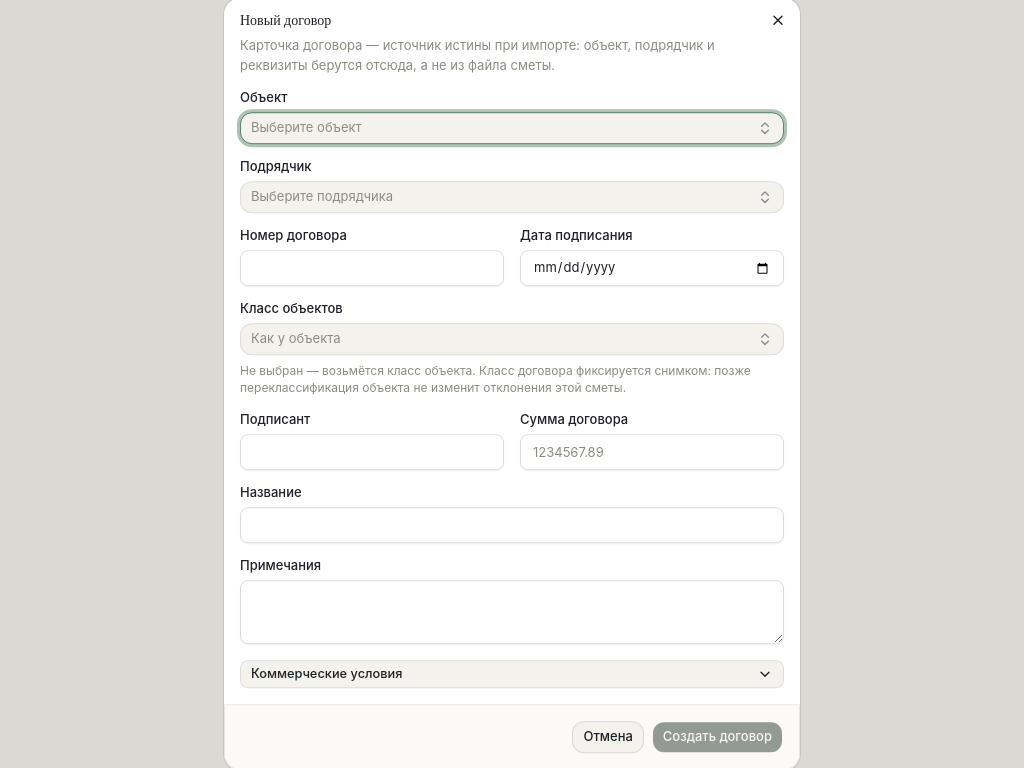
Test: Форма договора: поиск объекта и подрядчика › ищет и по адресу, а не только по названию
Click the dropdown labelled "Выберите объект": (306, 127) [240,112,784,144]
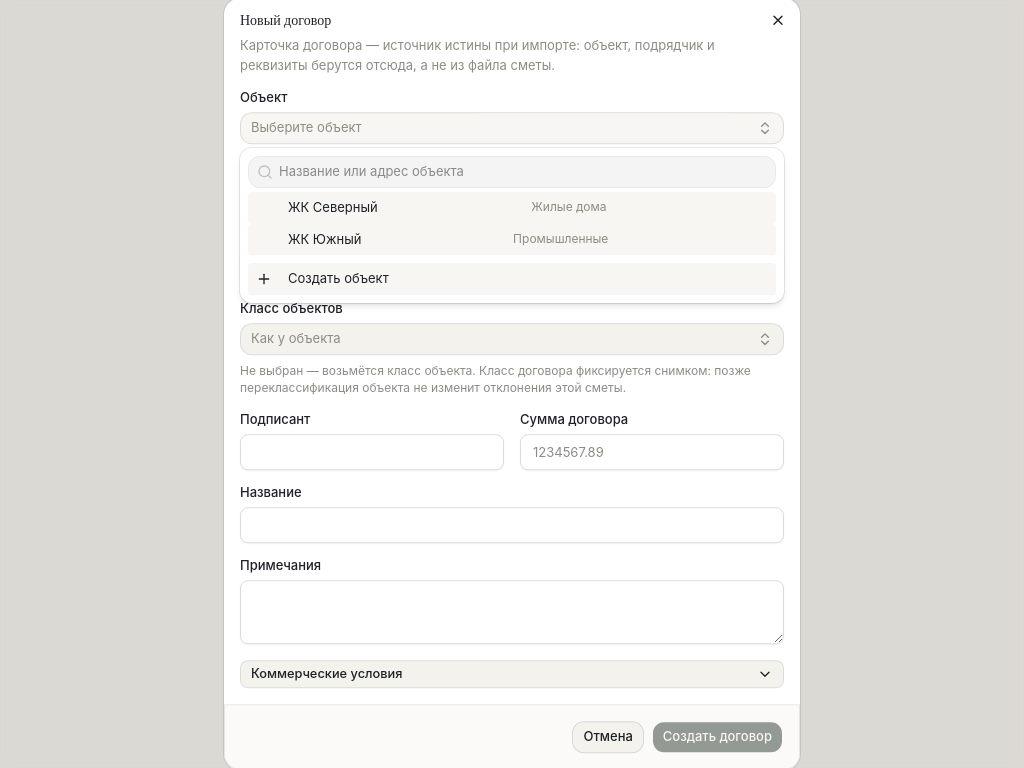
Result: the text "ЖК Северный" is shown at [288,198,378,218]
In the dropdown with placeholder "Название или адрес объекта": (524, 172) [273,162,775,182], type "Солнечная"
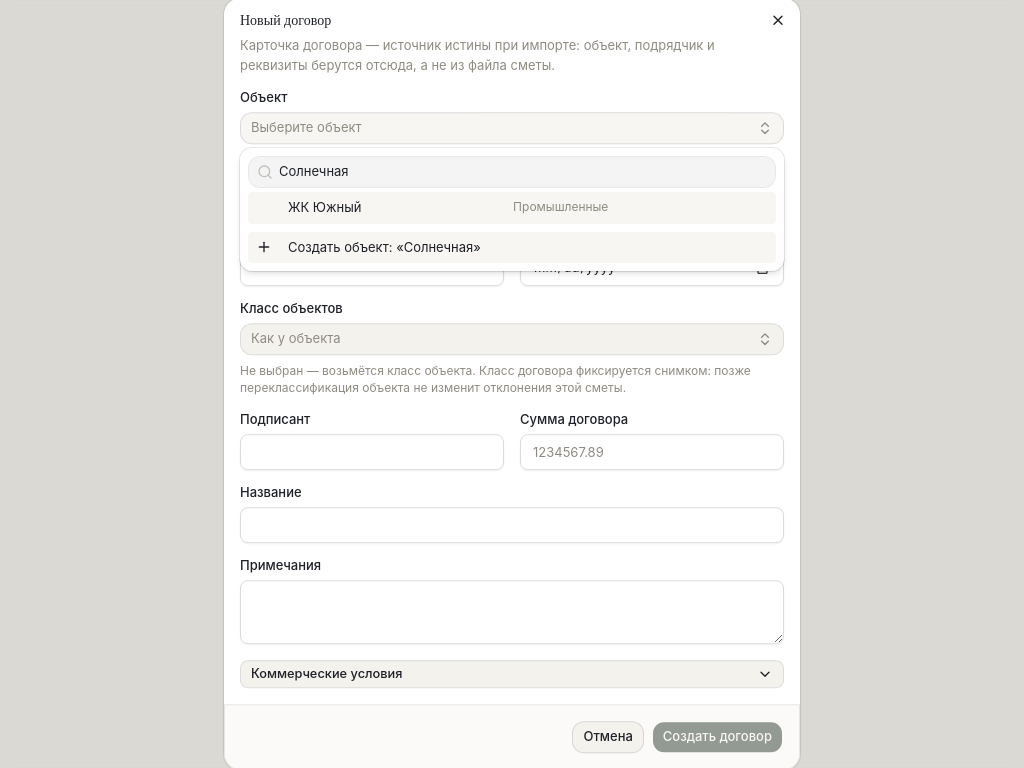
Result: the text "ЖК Южный" is shown at [288,198,362,218]
Result: the option "ЖК Северный" is gone
